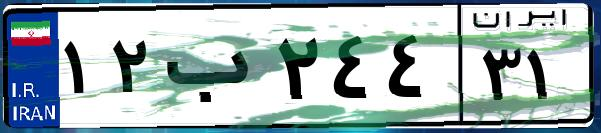1: (57, 26, 110, 100), (525, 38, 570, 115)
2: (270, 28, 330, 110), (110, 28, 158, 98)
3: (475, 38, 525, 113)
4: (385, 28, 445, 110), (330, 28, 385, 110)
ب: (158, 20, 270, 120)
